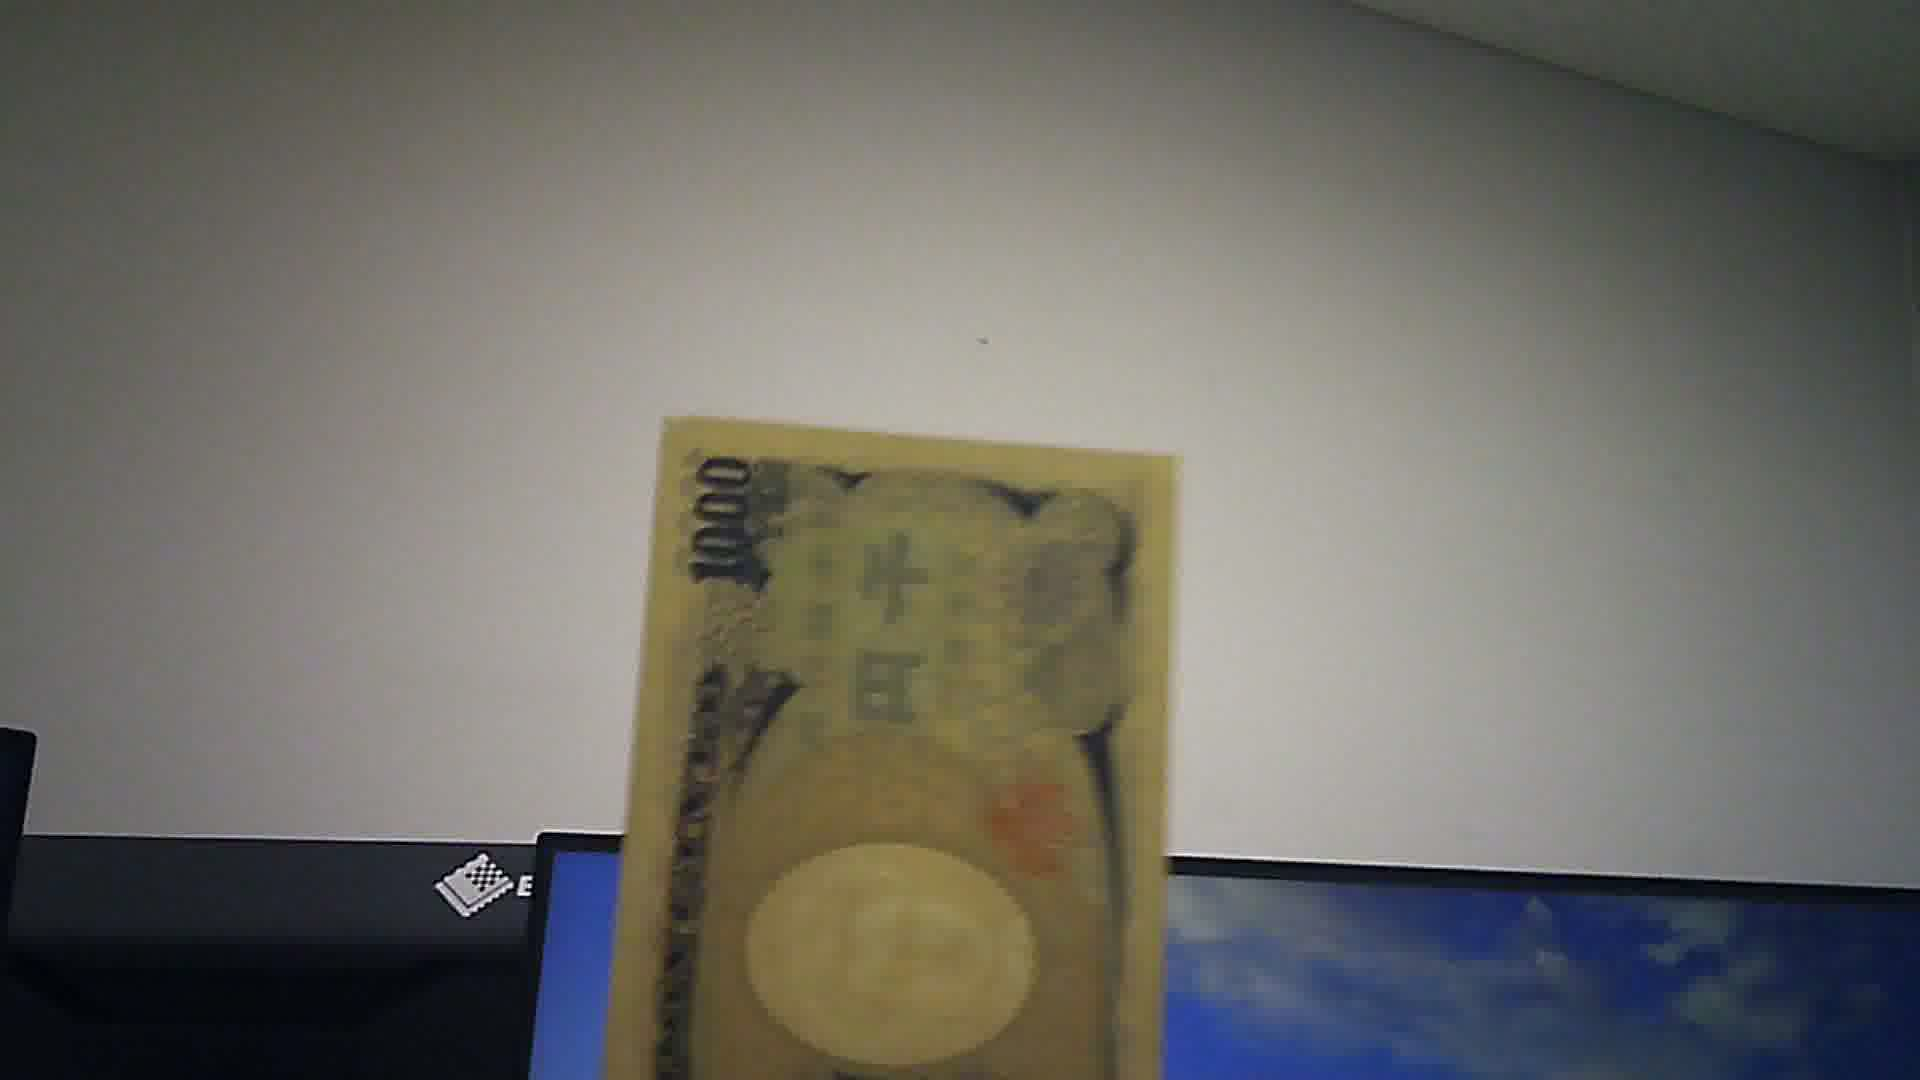1,000 Yen: (618, 415, 1193, 1079)
